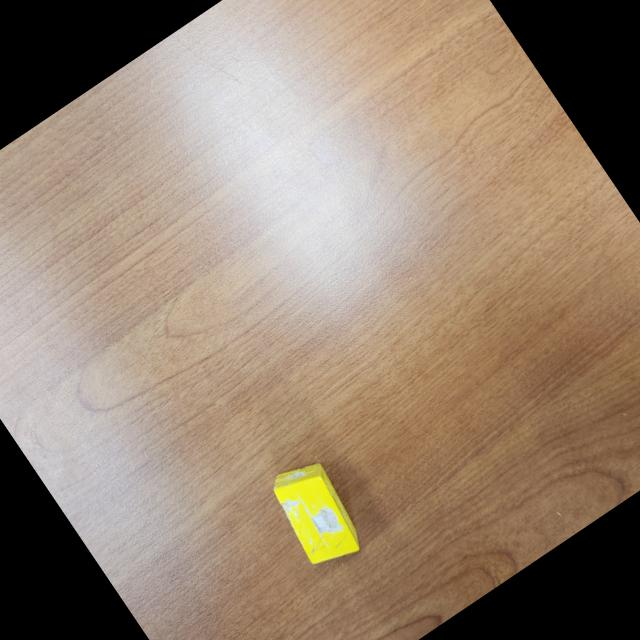broken: (260, 450, 374, 577)
